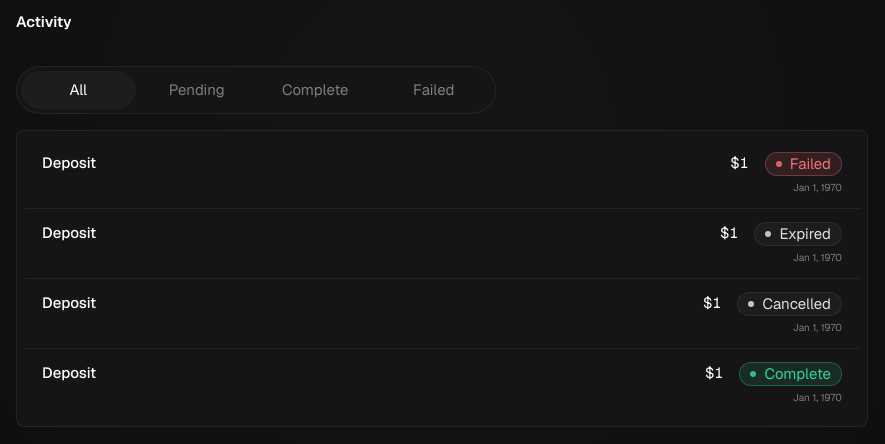
<History> › groups failed/expired/cancelled under the Failed filter
What coordinates should you click on to do the following:
click the tab "Failed"
I would click on:
 (434, 90)
Its box is x1=376 y1=70 x2=491 y2=109.
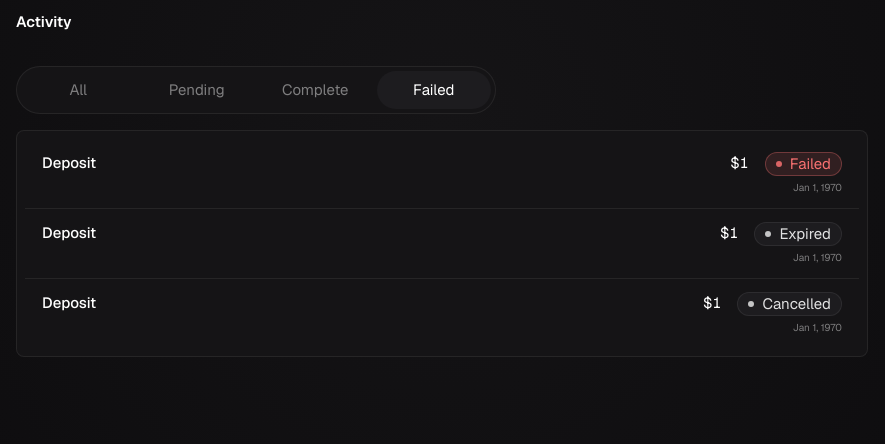
Now the text "$1" is shown 3 times, box x1=730 y1=152 x2=749 y2=174; x1=720 y1=222 x2=738 y2=244; x1=703 y1=292 x2=721 y2=314
